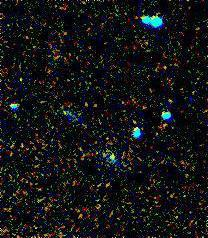star: (174, 85, 204, 115)
